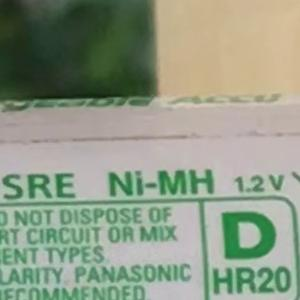keyword: (100, 161, 222, 205)
